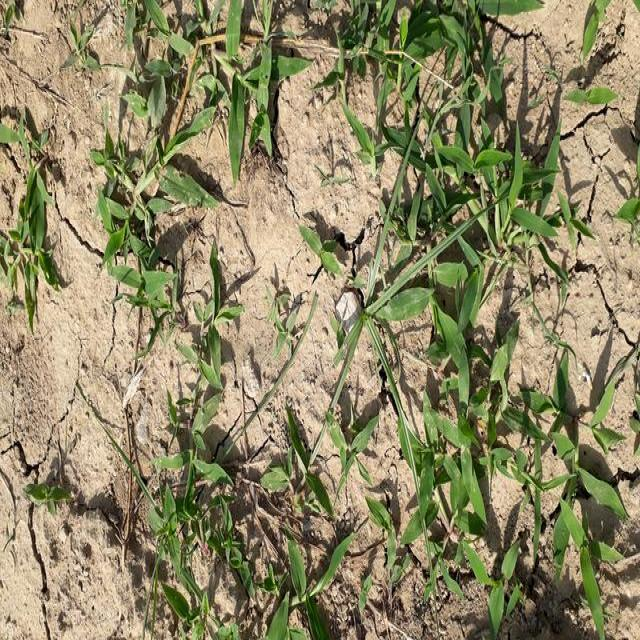weed: (374, 52, 546, 640), (121, 400, 398, 640), (126, 16, 516, 160), (566, 353, 639, 640), (113, 144, 223, 282), (2, 125, 65, 336), (298, 228, 348, 284)
